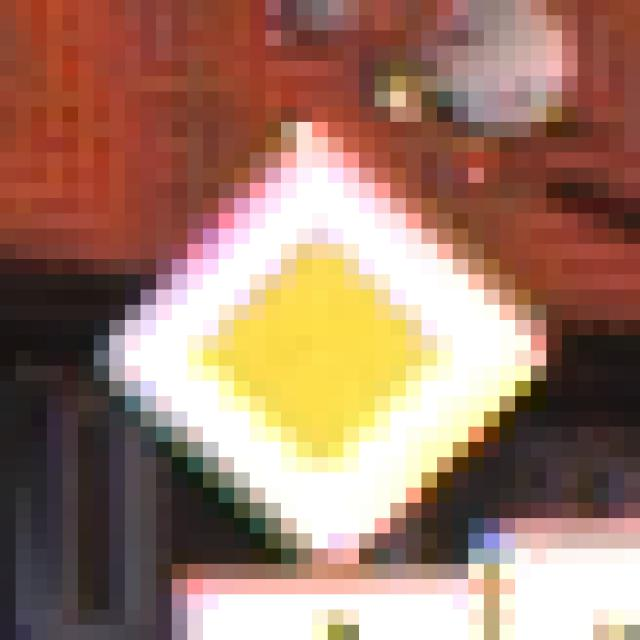Main Road: (79, 92, 563, 565)
